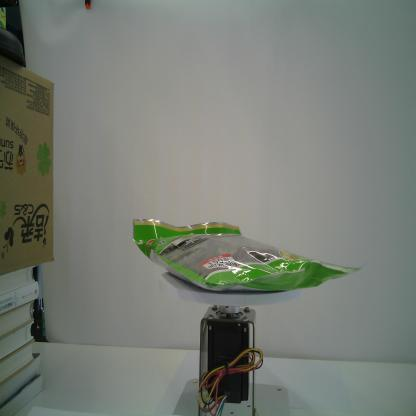Dried Food: (132, 218, 363, 292)
